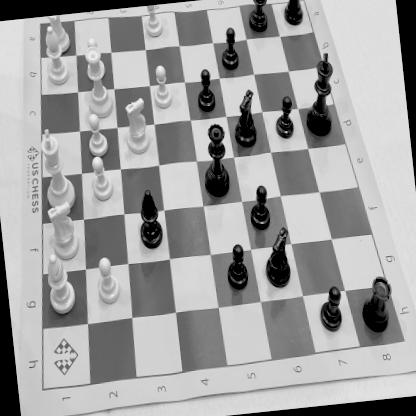black-bishop: (132, 184, 165, 252), (245, 0, 273, 35)
black-king: (297, 50, 341, 140)
black-knight: (260, 221, 298, 294), (228, 84, 260, 150)
black-pawn: (314, 280, 347, 336), (268, 90, 298, 144), (221, 238, 251, 291), (245, 182, 274, 232), (191, 64, 218, 117), (216, 24, 240, 72)
black-queen: (197, 116, 234, 202)
black-rook: (356, 272, 397, 336), (279, 0, 308, 30)
white-bishop: (43, 250, 78, 314), (40, 22, 72, 88)
white-king: (37, 122, 78, 212)
white-knight: (44, 198, 82, 264), (119, 95, 152, 159)
white-pawn: (93, 254, 123, 308), (86, 154, 116, 205), (84, 111, 110, 160), (81, 35, 108, 82), (150, 64, 174, 112), (140, 4, 165, 40)
white-queen: (76, 44, 116, 119)
white-rook: (44, 13, 72, 56)
